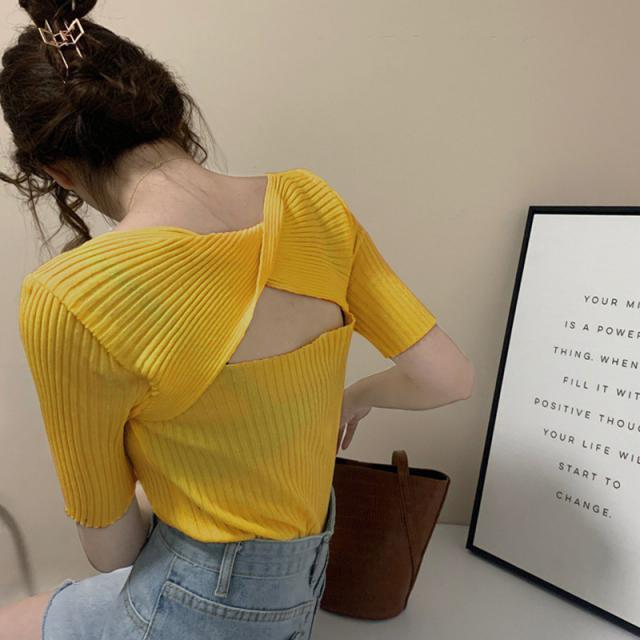Shirt: (14, 160, 446, 543)
